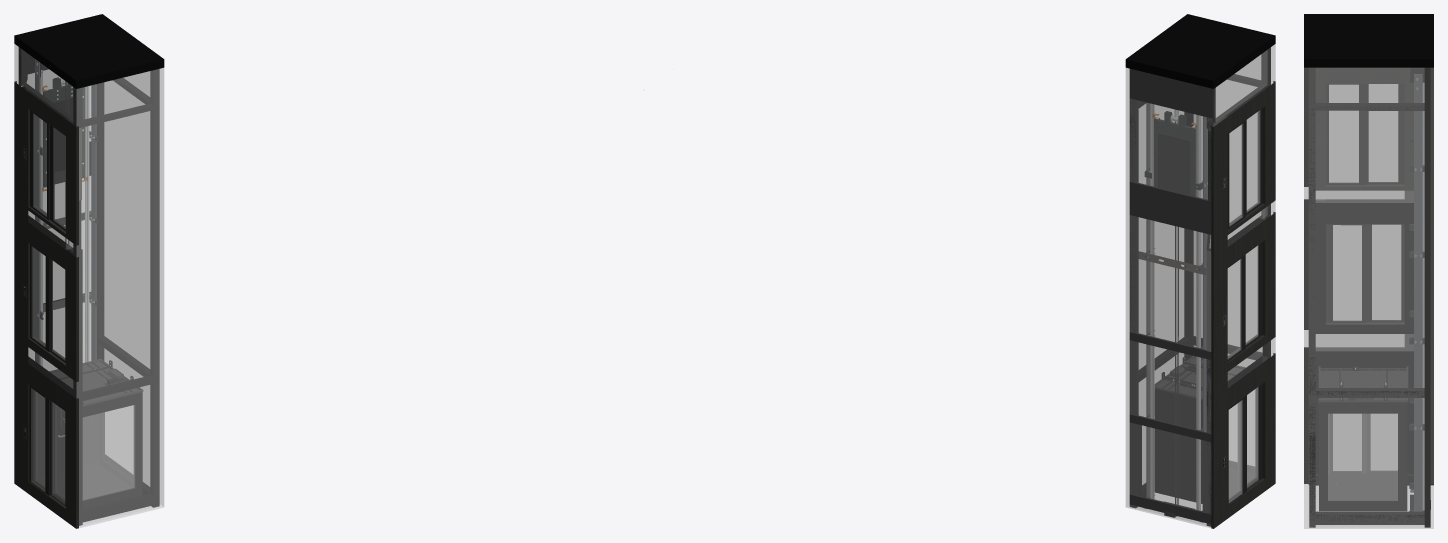
File: alpha.glb
3 views of the same model, side by side, from view 1: azimuth 30°, elevation 25°; view 2: azimuth 150°, elevation 25°; view 3: azimuth 270°, elevation 25° (orthographic). The views are drawn at different scales.
Parts seen in each view (by area): view 1: Cube.016, Cube.005, Cube.017, Left Door.005, Left Door.002, Left Door.003, Slide.002, Cube.018, Left Door.004, Left Door.010, Left Door.001, Left Door.008 (+2 smaller); view 2: Cube.016, Cube.005, Slide.002, Cube.018, Cube.017, Left Door.005, Left Door.003, Left Door.004, Left Door.002, Left Door.001, Left Door.010, Left Door.008 (+2 smaller); view 3: Cube.016, Cube.005, Left Door.001, Left Door.002, Left Door.004, Cube.017, Left Door.003, Plane.042, Slide.002, Plane.032, Left Door.006, Left Door.005 (+1 smaller).
Boxes of the visible parts, x1,y1,x2,y2 form: Cube.016: [14, 14, 164, 528]; Cube.005: [32, 389, 142, 509]; Cube.017: [35, 59, 96, 364]; Left Door.005: [29, 385, 50, 495]; Left Door.002: [30, 244, 50, 351]; Left Door.003: [30, 110, 49, 220]; Slide.002: [40, 70, 89, 366]; Cube.018: [43, 85, 85, 186]; Left Door.004: [50, 125, 65, 231]; Left Door.010: [50, 400, 65, 505]; Left Door.001: [50, 259, 65, 362]; Left Door.008: [33, 390, 54, 493]; Cube.016: [1125, 14, 1275, 528]; Cube.005: [1154, 389, 1257, 503]; Slide.002: [1150, 103, 1200, 510]; Cube.018: [1154, 119, 1196, 196]; Cube.017: [1144, 103, 1207, 522]; Left Door.005: [1227, 395, 1246, 505]; Left Door.003: [1227, 121, 1245, 229]; Left Door.004: [1241, 108, 1262, 216]; Left Door.002: [1227, 254, 1245, 361]; Left Door.001: [1245, 242, 1262, 346]; Left Door.010: [1247, 384, 1262, 489]; Left Door.008: [1229, 401, 1241, 498]; Cube.016: [1304, 14, 1433, 528]; Cube.005: [1319, 402, 1407, 511]; Left Door.001: [1326, 224, 1365, 322]; Left Door.002: [1366, 224, 1404, 322]; Left Door.004: [1326, 84, 1366, 184]; Cube.017: [1410, 74, 1422, 511]; Left Door.003: [1366, 84, 1404, 184]; Plane.042: [1318, 366, 1408, 402]; Slide.002: [1422, 82, 1424, 510]; Plane.032: [1409, 137, 1424, 511]; Left Door.006: [1328, 414, 1365, 473]; Left Door.005: [1367, 414, 1397, 471].
Size of what is drawn, in the model's own units: 37.85 by 27.76 by 6.96.
Materials: 70 (23 with a texture image).
